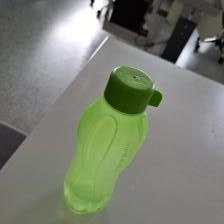bottle: (61, 66, 164, 213)
